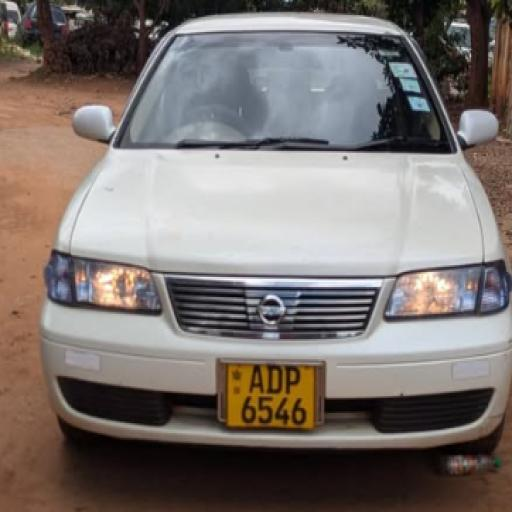number-plates: (226, 360, 312, 433)
